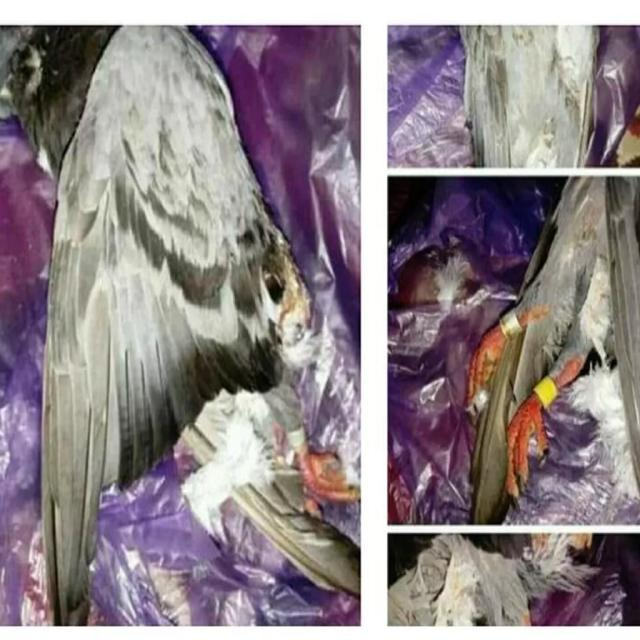Bangkai Burung: (20, 18, 352, 590), (444, 193, 625, 468)
